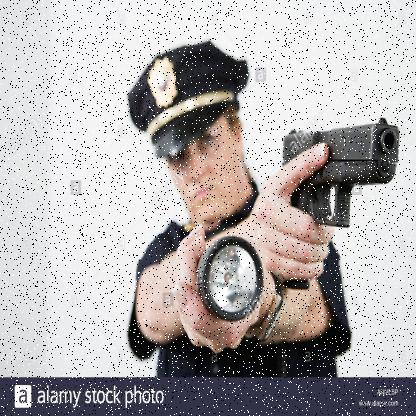pistol: (282, 116, 400, 290)
